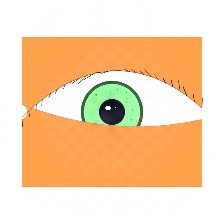hemorrhage_spot: (87, 98, 150, 148)
